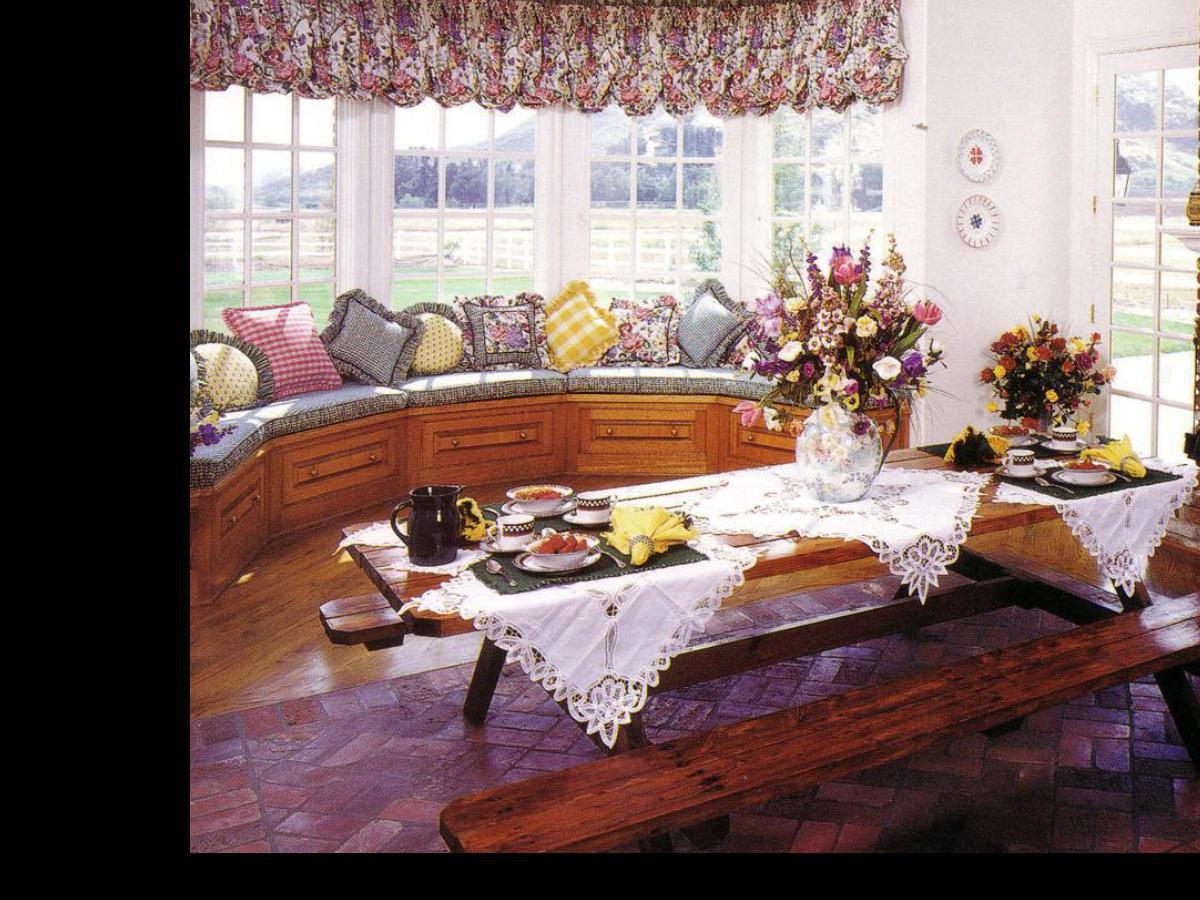Puerta: (1093, 44, 1191, 460)
